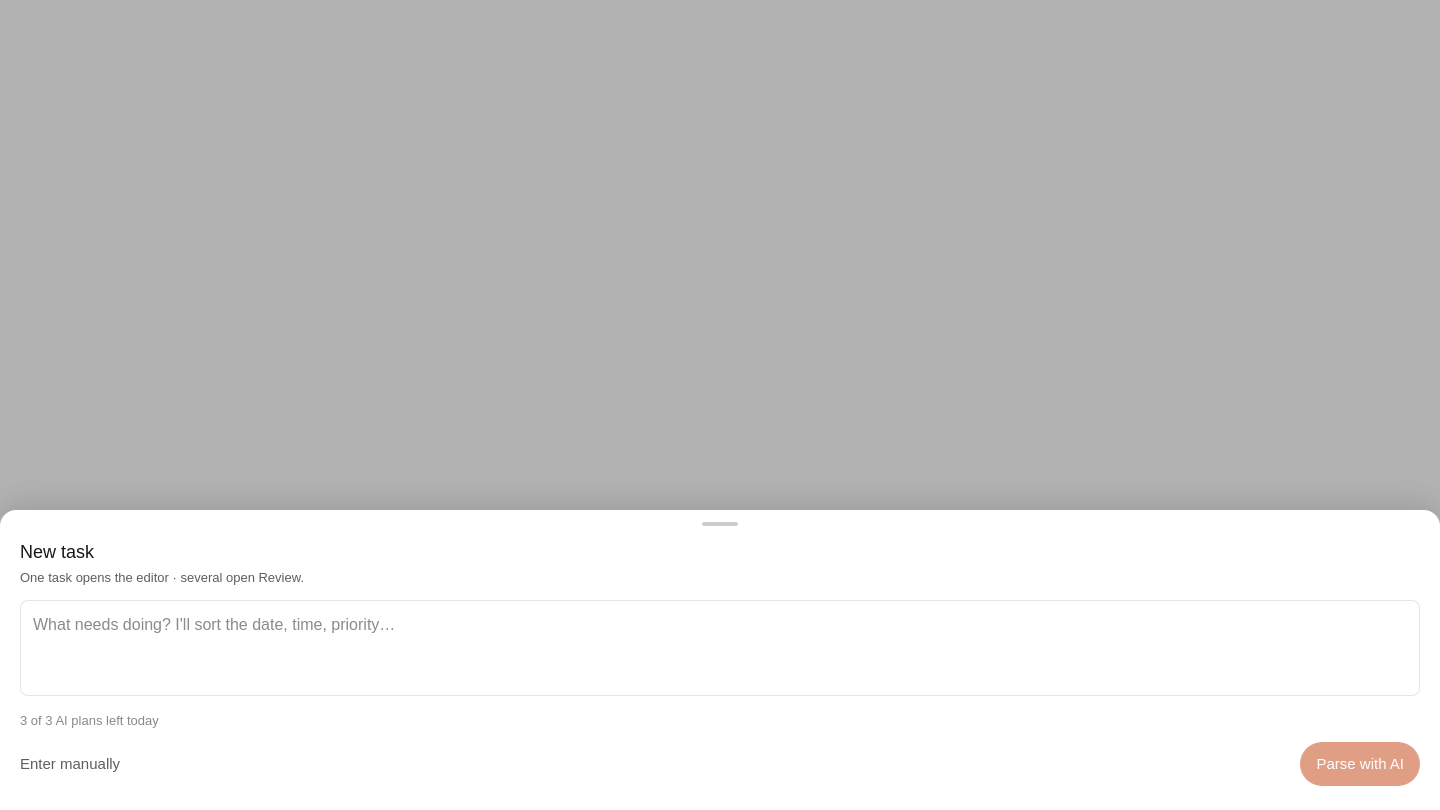
QuickAddSheet › Parse with AI on several tasks opens Review
Type "a and b" into the text box named "new task" at (720, 648), box [20, 600, 1420, 696]
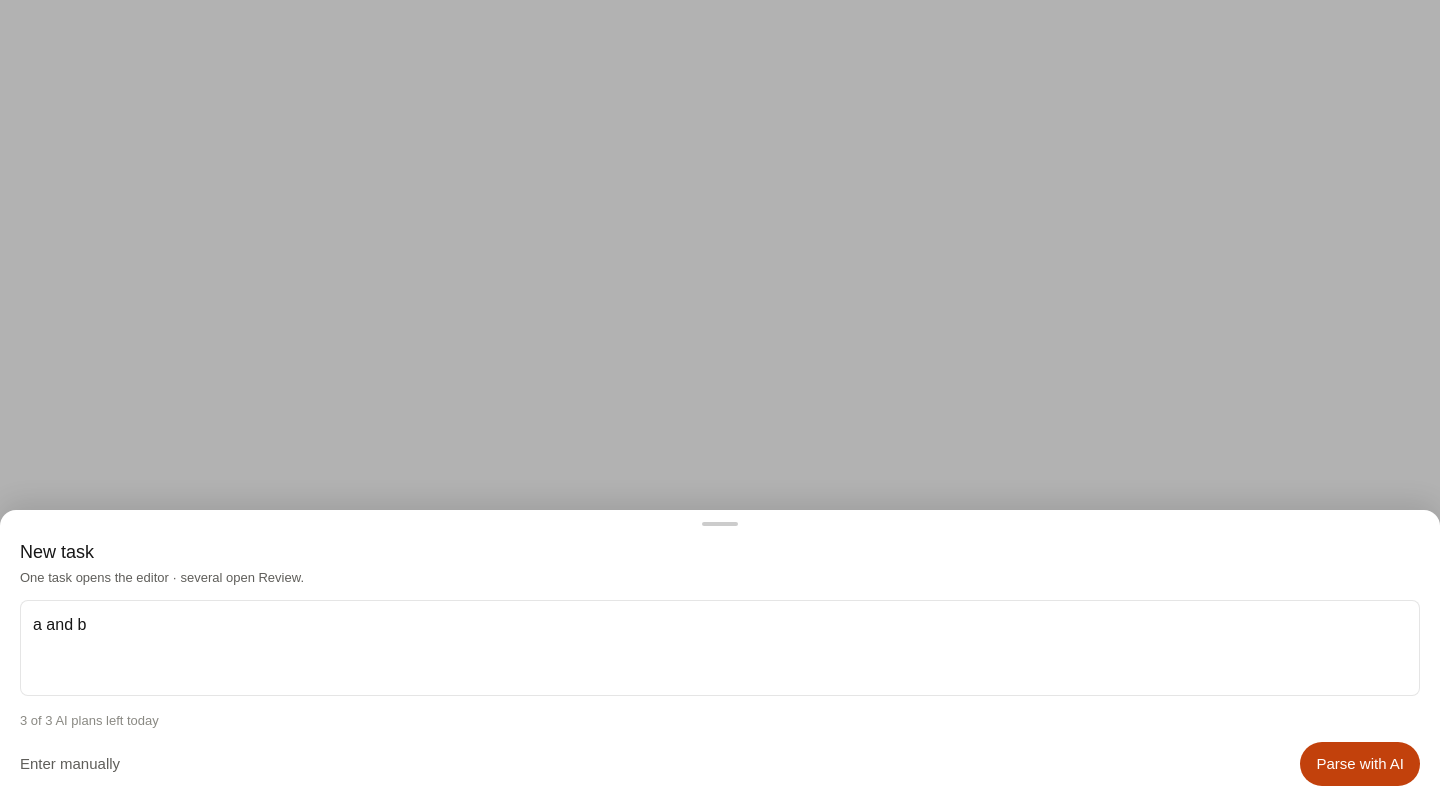
Click the button "Parse with AI" at (1360, 764), box [1300, 742, 1420, 786]
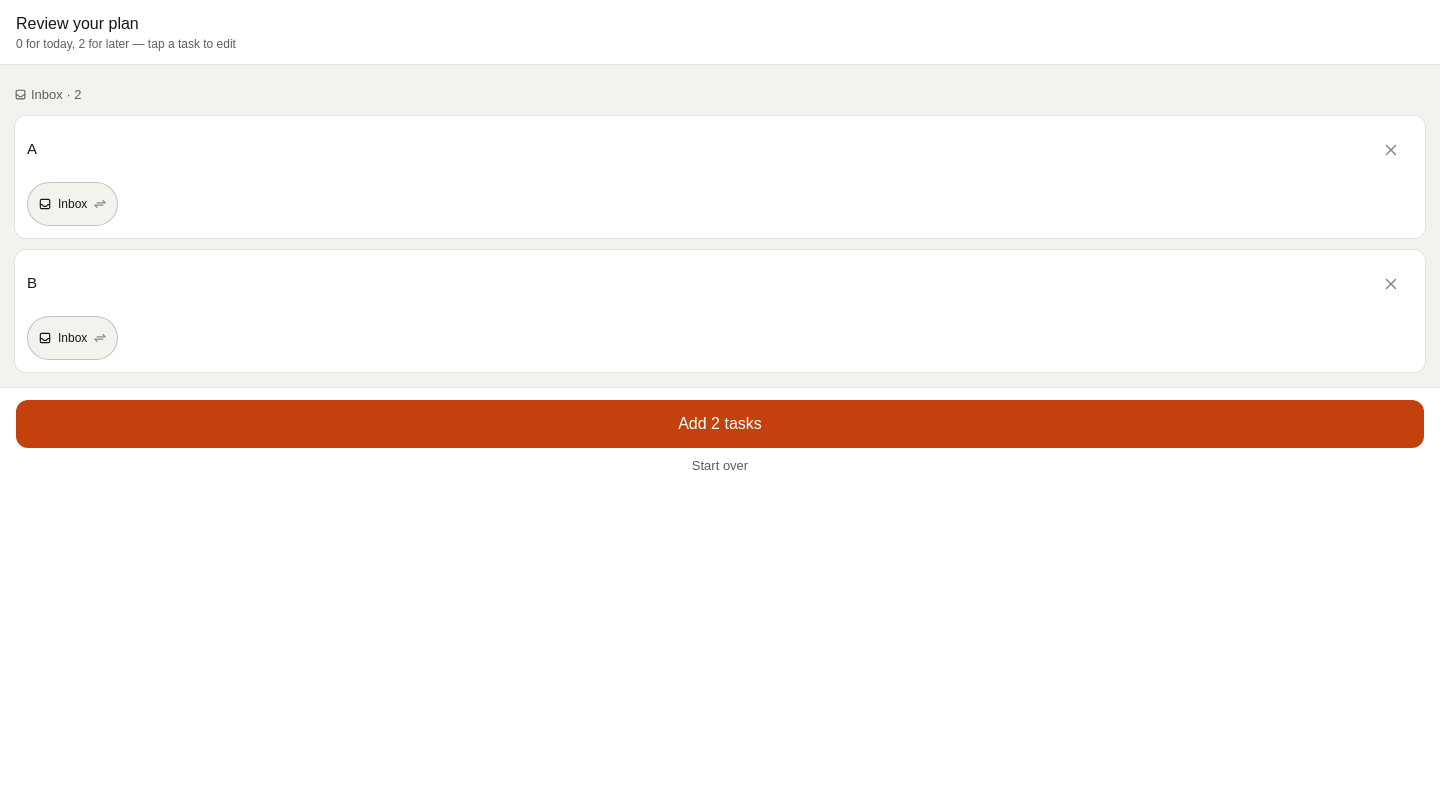
Now the button "Add 2 tasks" is shown, box [16, 400, 1424, 448]
